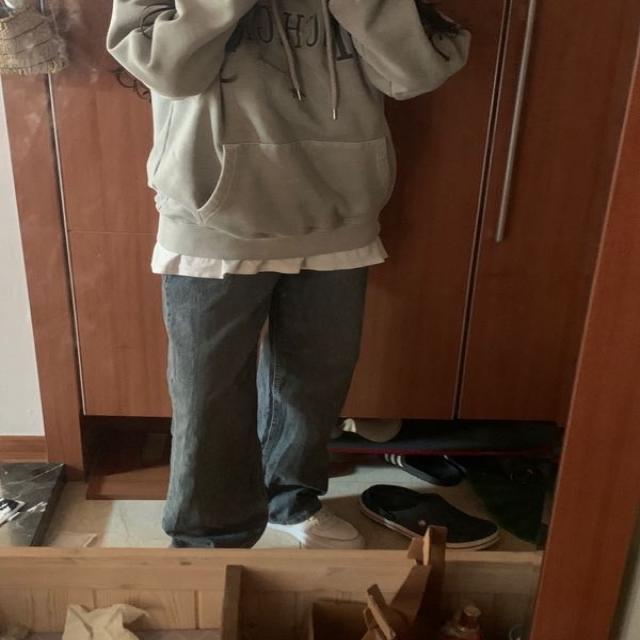denimpants: (162, 267, 370, 549)
hoodies: (103, 4, 473, 270)
